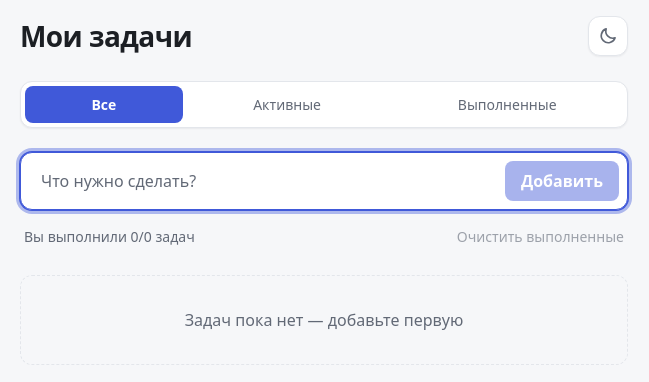
Test: App: empty states › shows a filter-specific message
The width and height of the screenshot is (649, 382).
Click the button with aria-label "Активные задачи" at (287, 104), box x1=187 y1=86 x2=388 y2=123
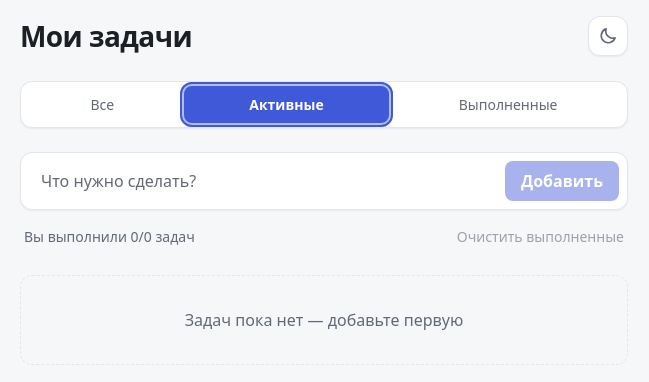
Expected: the text "Задач пока нет — добавьте первую" is shown, x1=20 y1=275 x2=628 y2=365
Type "Одна" into the field named "Новая задача" at (263, 181), box x1=29 y1=159 x2=497 y2=203
Then press Enter
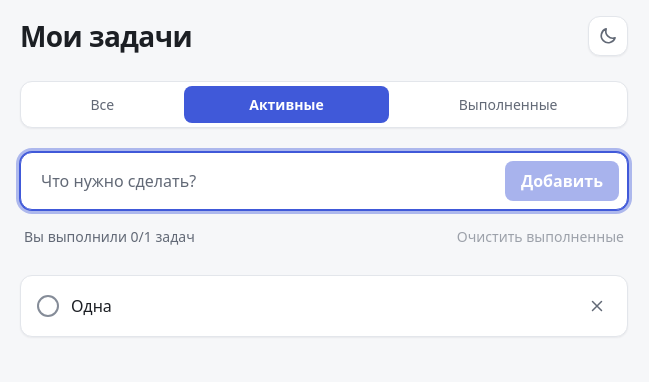
Click the button with aria-label "Выполненные задачи" at (508, 104), box x1=393 y1=86 x2=623 y2=123
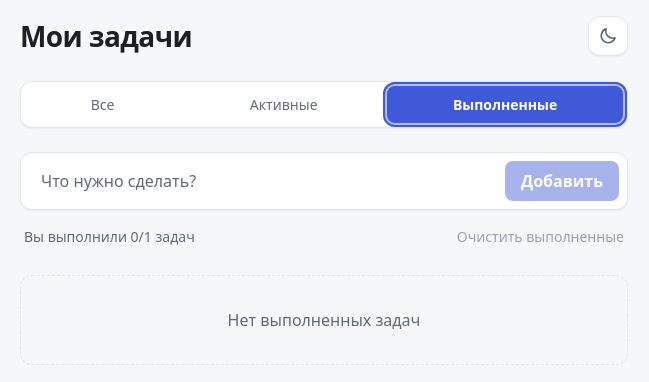
Expected: the text "Нет выполненных задач" is shown, x1=20 y1=275 x2=628 y2=365
Click the button with aria-label "Все задачи" at (103, 104), box x1=25 y1=86 x2=180 y2=123
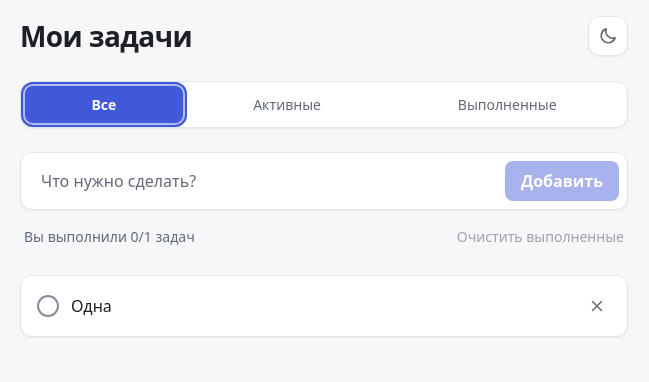
Click the checkbox labelled "Одна" at (48, 306), box x1=37 y1=295 x2=59 y2=317
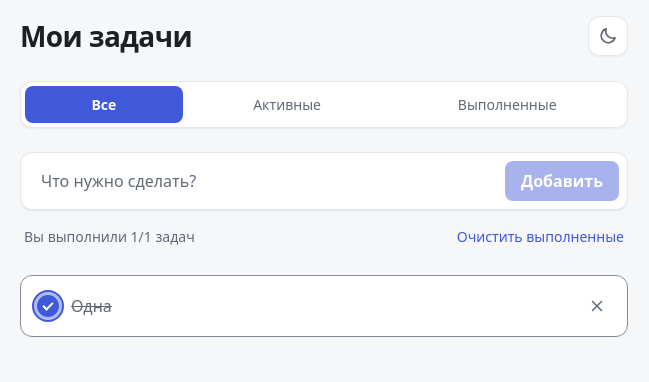
Click the button with aria-label "Активные задачи" at (287, 104), box x1=187 y1=86 x2=388 y2=123
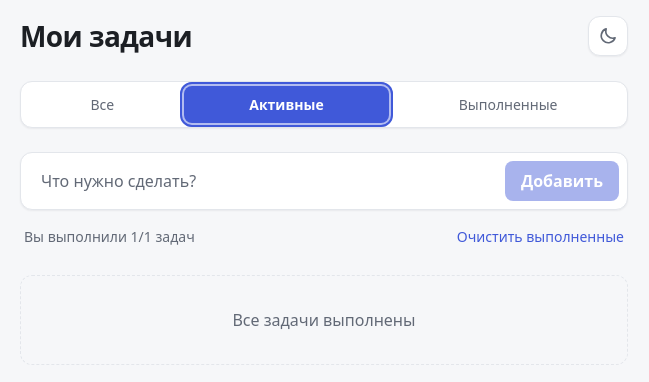
Expected: the text "Все задачи выполнены" is shown, x1=20 y1=275 x2=628 y2=365
